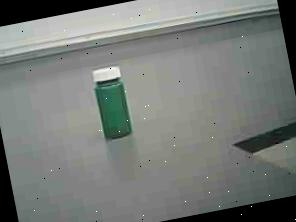Bottle C: (84, 57, 144, 146)
